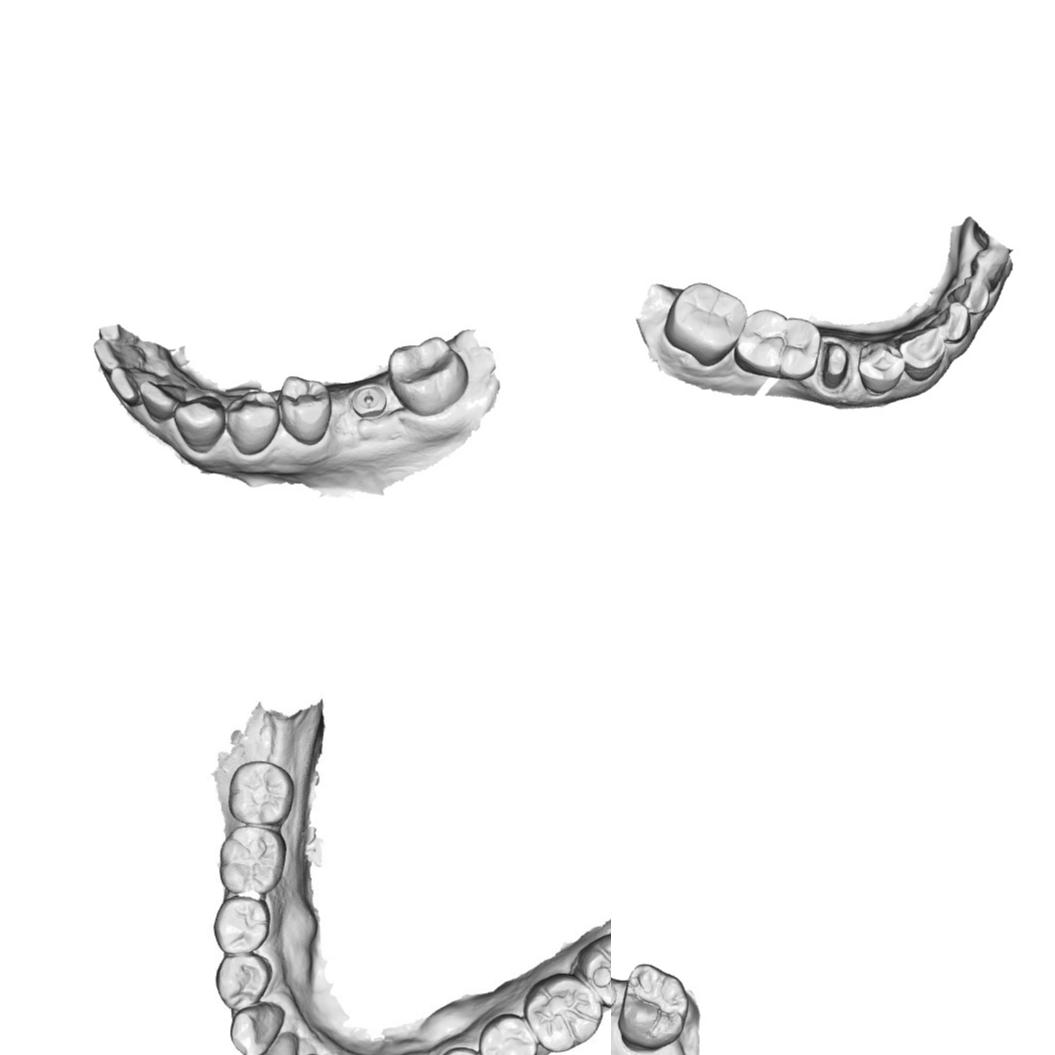canine: (892, 325, 946, 383), (173, 394, 224, 454), (234, 1005, 281, 1051)
crown: (816, 337, 852, 394)
implant: (611, 980, 618, 1011)
implant_minus: (353, 382, 386, 421)
incisor: (137, 373, 191, 423), (95, 333, 153, 373), (927, 299, 969, 344), (944, 275, 990, 315), (968, 246, 1006, 286), (109, 363, 143, 406), (252, 1035, 296, 1055)
molar: (662, 280, 748, 368), (386, 335, 470, 417), (616, 961, 690, 1052), (732, 306, 821, 381), (527, 973, 604, 1055), (217, 828, 280, 896), (227, 759, 292, 824), (576, 933, 611, 1010)
premolar: (277, 374, 334, 446), (213, 952, 276, 1013), (222, 390, 279, 455), (212, 896, 268, 956), (856, 338, 906, 396), (485, 1016, 535, 1055)
